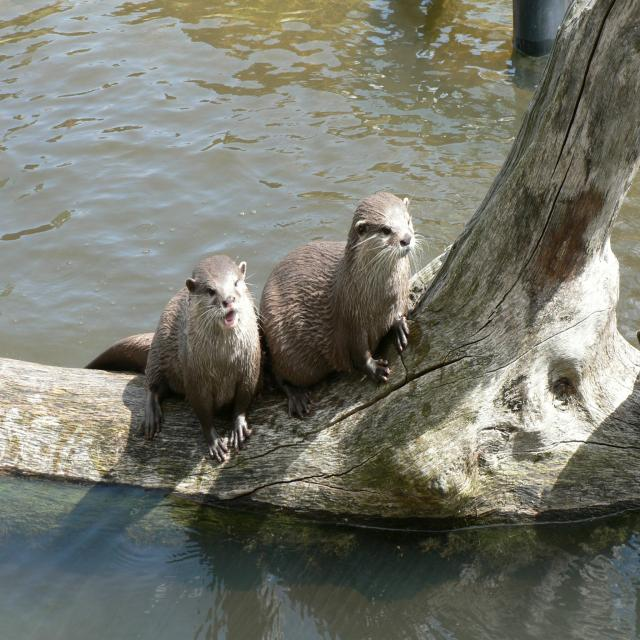otter: (86, 257, 261, 461), (260, 194, 414, 422)
